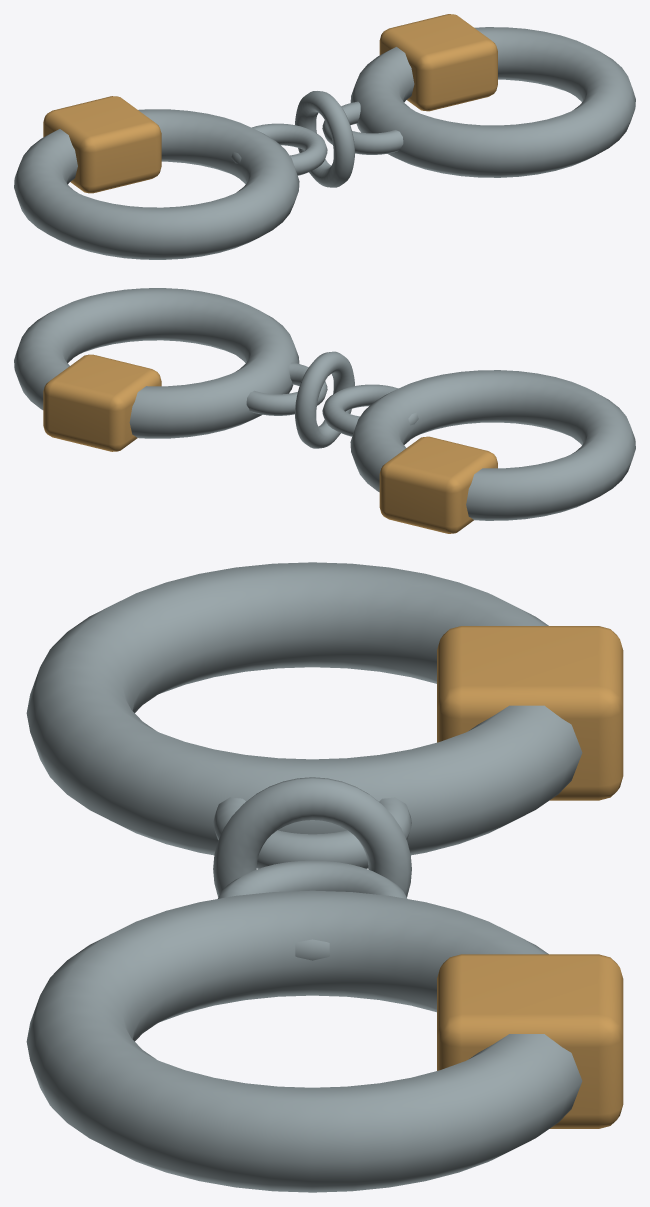
The model's file is item_cuffs.glb.
3 renders of one model, top to bottom at view 1: azimuth 30°, elevation 25°; view 2: azimuth 150°, elevation 25°; view 3: azimuth 270°, elevation 25°, orthographic. The views are drawn at different scales.
Parts seen in each view (by area): view 1: Cuff_ring, Cuff_ring.001, Cuff_lock, Cuff_lock.001, Chain_link.001, Chain_link, Chain_link.002; view 2: Cuff_ring, Cuff_ring.001, Cuff_lock, Cuff_lock.001, Chain_link.001, Chain_link, Chain_link.002; view 3: Cuff_ring.001, Cuff_ring, Cuff_lock.001, Cuff_lock, Chain_link.001, Chain_link.002, Chain_link.
Boxes of the visible parts, x1,y1,x2,y2 form: Cuff_ring: [14, 109, 299, 259]; Cuff_ring.001: [350, 27, 635, 177]; Cuff_lock: [43, 96, 161, 193]; Cuff_lock.001: [379, 14, 497, 111]; Chain_link.001: [295, 91, 354, 187]; Chain_link: [231, 123, 327, 175]; Chain_link.002: [322, 101, 403, 154]; Cuff_ring: [350, 370, 635, 520]; Cuff_ring.001: [14, 288, 299, 438]; Cuff_lock: [379, 436, 497, 533]; Cuff_lock.001: [43, 354, 161, 451]; Chain_link.001: [295, 351, 354, 448]; Chain_link: [322, 384, 418, 436]; Chain_link.002: [246, 362, 327, 415]; Cuff_ring.001: [26, 890, 582, 1192]; Cuff_ring: [26, 562, 582, 855]; Cuff_lock.001: [437, 954, 623, 1128]; Cuff_lock: [437, 626, 623, 800]; Chain_link.001: [213, 777, 411, 897]; Chain_link.002: [218, 860, 407, 960]; Chain_link: [213, 797, 411, 868].
Bounding box in the file's own units: 0.434 × 0.064 × 0.192.
